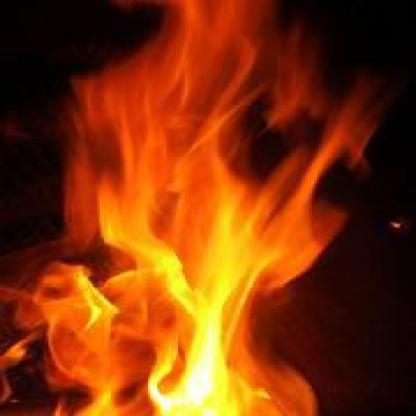fire: (7, 6, 374, 413)
